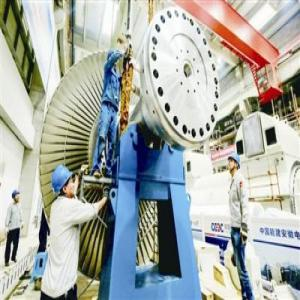blue: (52, 164, 76, 200), (228, 151, 241, 176), (12, 188, 22, 205)
